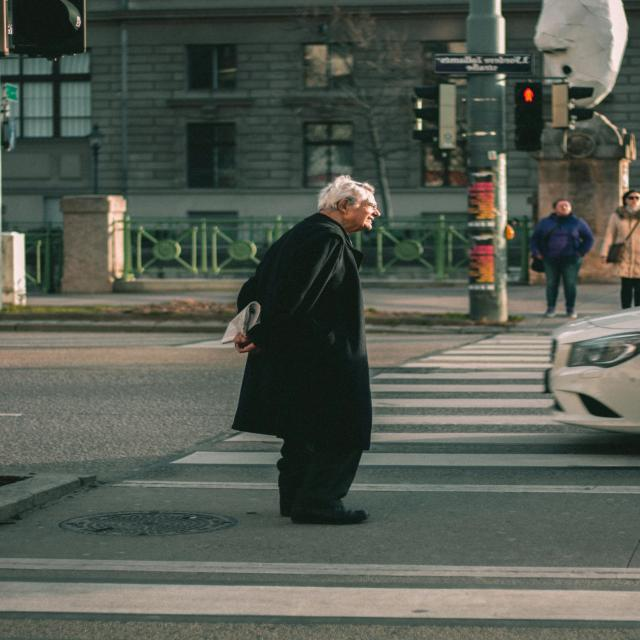adult: (229, 177, 389, 527), (529, 196, 595, 324)
